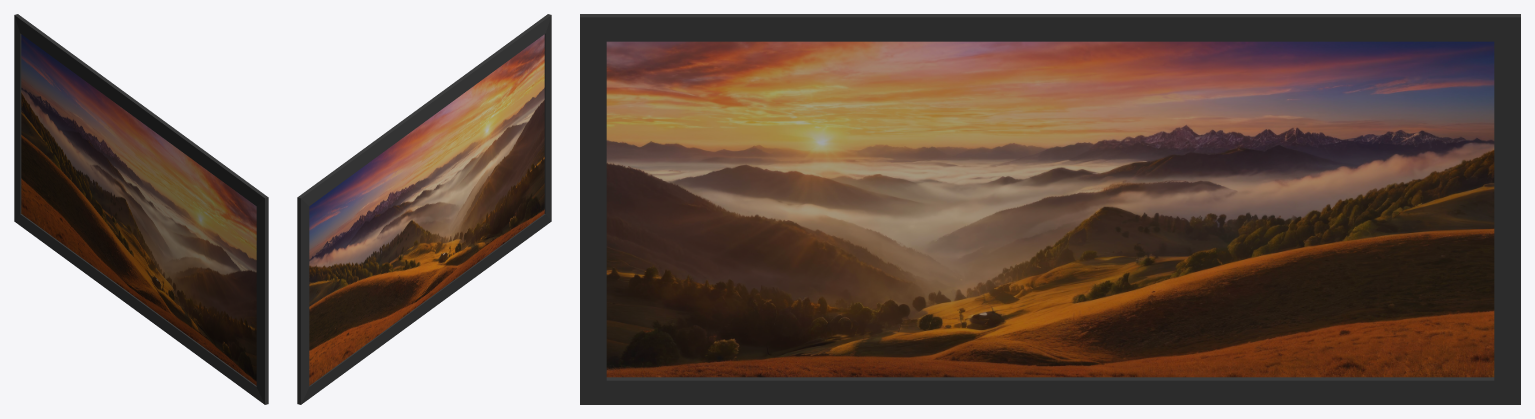
File: Painting_Mountains_Landscape1.fbx
The picture shows the model from 3 angles, left to right: view 1: azimuth 30°, elevation 25°; view 2: azimuth 150°, elevation 25°; view 3: azimuth 270°, elevation 25°; orthographic projection. The views are drawn at different scales.
Parts seen in each view (by area): view 1: mountains_landscape1, PaintingFrame2; view 2: mountains_landscape1, PaintingFrame2; view 3: mountains_landscape1, PaintingFrame2.
Boxes of the visible parts, left/top/right/bottom form: mountains_landscape1: left=21, top=34, right=256, bottom=385; PaintingFrame2: left=14, top=14, right=268, bottom=404; mountains_landscape1: left=309, top=34, right=544, bottom=385; PaintingFrame2: left=297, top=14, right=551, bottom=404; mountains_landscape1: left=606, top=41, right=1494, bottom=377; PaintingFrame2: left=580, top=14, right=1520, bottom=404.
Bounding box in the file's own units: 4 × 160 × 352.
